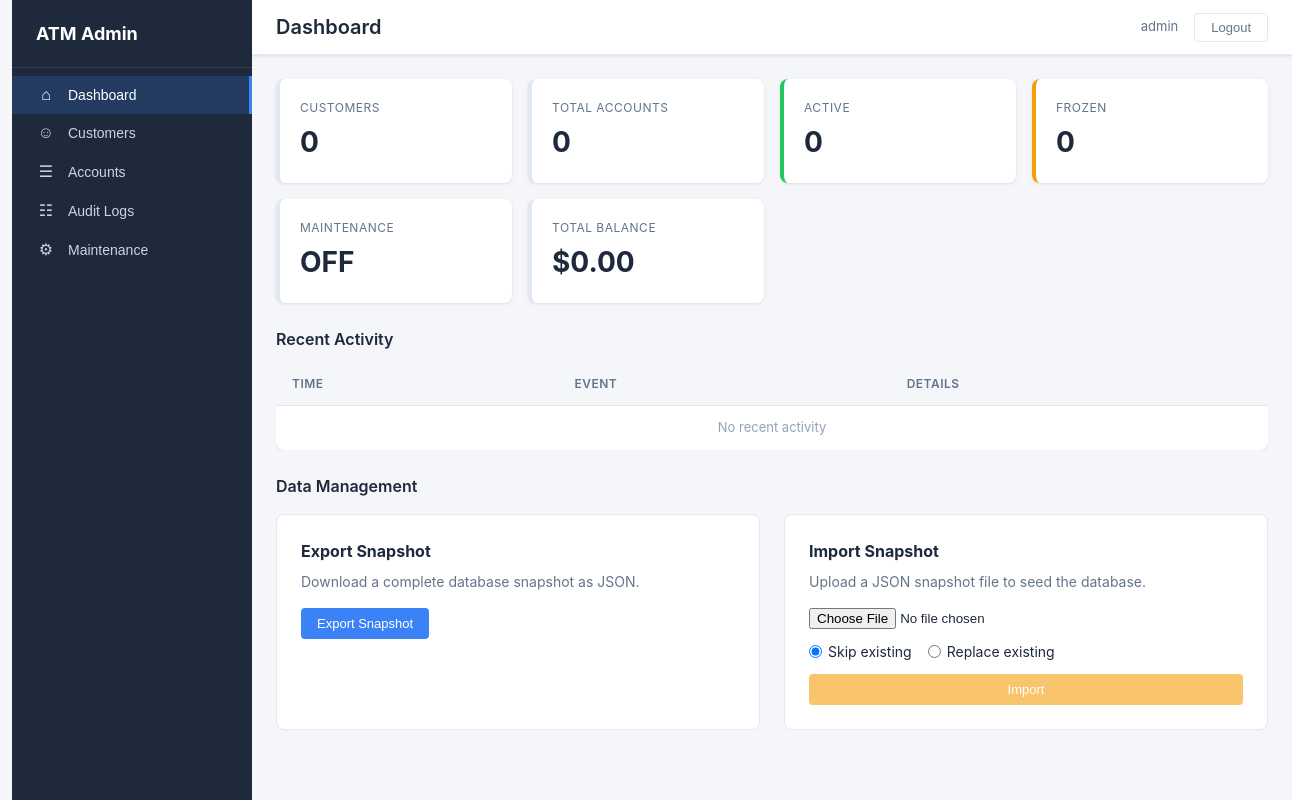
App › navigates to Customers page
The width and height of the screenshot is (1292, 800).
Expected: the text "Total Accounts" is shown, 552,100 -> 668,115
Click the button "☺ Customers": click(132, 133) 12,114 -> 252,152
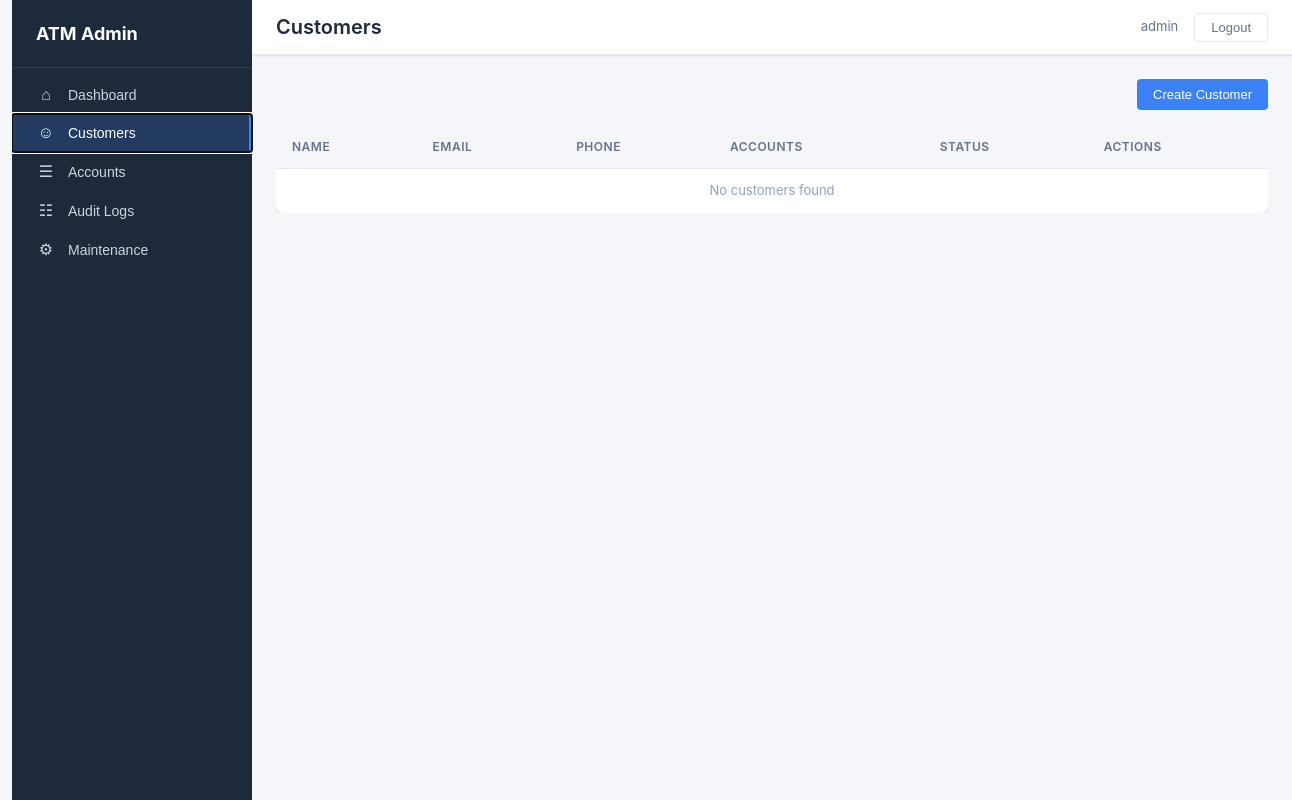
Now the button "Create Customer" is shown, box 1137,79 -> 1268,110
